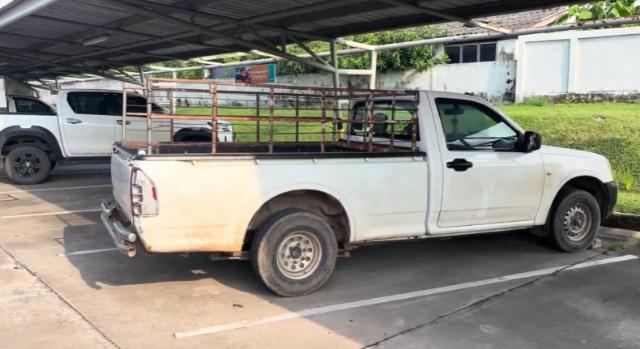pickup-truck: (100, 78, 616, 296)
